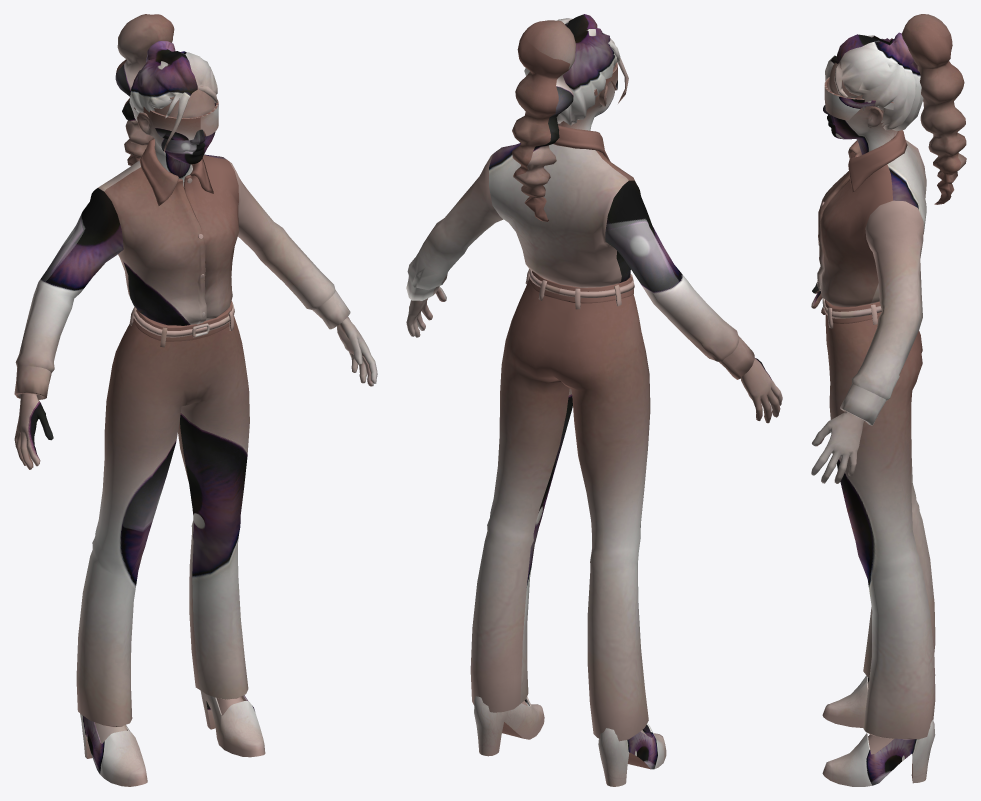
Rendered from avillablender.fbx.
3 renders of one model, left to right at view 1: azimuth 30°, elevation 25°; view 2: azimuth 150°, elevation 25°; view 3: azimuth 270°, elevation 25°, orthographic. The views are drawn at different scales.
Parts seen in each view (by area): view 1: Wolf3D_Outfit_Bottom, Wolf3D_Outfit_Top, Wolf3D_Hair, Wolf3D_Outfit_Footwear, Wolf3D_Body, Wolf3D_Head, Wolf3D_Glasses; view 2: Wolf3D_Outfit_Bottom, Wolf3D_Outfit_Top, Wolf3D_Hair, Wolf3D_Outfit_Footwear, Wolf3D_Body, Wolf3D_Head; view 3: Wolf3D_Outfit_Bottom, Wolf3D_Outfit_Top, Wolf3D_Hair, Wolf3D_Outfit_Footwear, Wolf3D_Body, Wolf3D_Head, Wolf3D_Glasses.
Boxes of the visible parts, x1,y1,x2,y2 form: Wolf3D_Outfit_Bottom: (76,300,249,727); Wolf3D_Outfit_Top: (14,138,350,399); Wolf3D_Hair: (115,14,217,165); Wolf3D_Outfit_Footwear: (80,691,265,786); Wolf3D_Body: (14,317,377,743); Wolf3D_Head: (137,86,215,186); Wolf3D_Glasses: (134,99,218,140); Wolf3D_Outfit_Bottom: (470,269,650,741); Wolf3D_Outfit_Top: (406,125,754,379); Wolf3D_Hair: (512,14,628,221); Wolf3D_Outfit_Footwear: (474,696,666,786); Wolf3D_Body: (406,286,782,735); Wolf3D_Head: (558,66,615,130); Wolf3D_Outfit_Bottom: (822,297,935,739); Wolf3D_Outfit_Top: (817,130,926,425); Wolf3D_Hair: (825,14,966,204); Wolf3D_Outfit_Footwear: (822,674,935,786); Wolf3D_Body: (811,282,893,754); Wolf3D_Head: (823,63,897,154); Wolf3D_Glasses: (824,77,894,120).
Size of the model in its own units: 92.79 by 182 by 35.11.
Materials: 9 (9 with a texture image).
